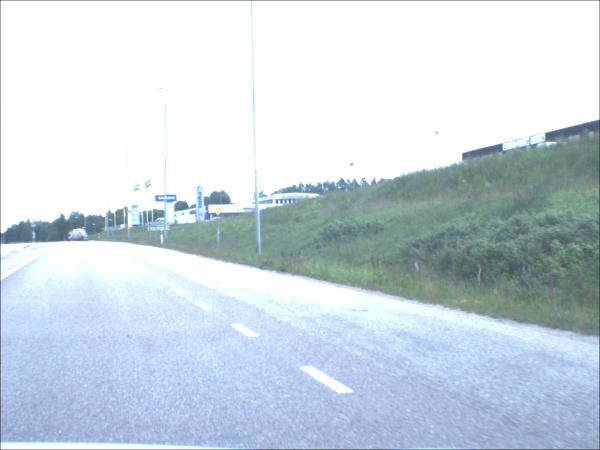PRIORITY_ROAD: (214, 205, 226, 217)
